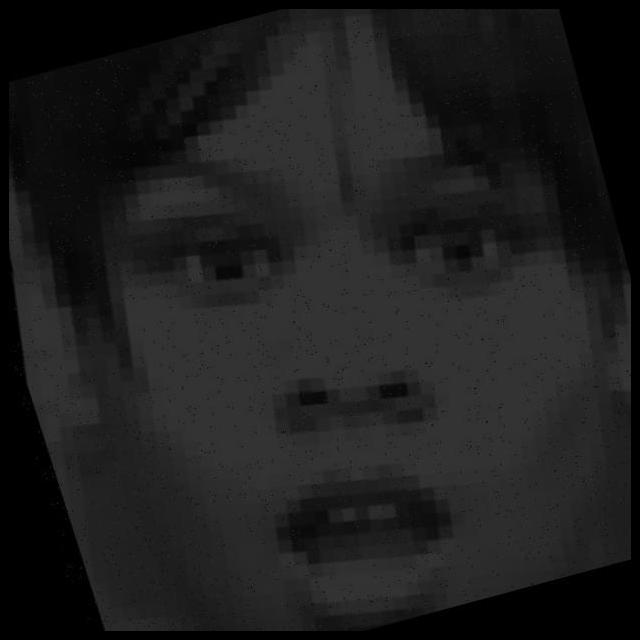Surprised: (114, 118, 582, 613)
